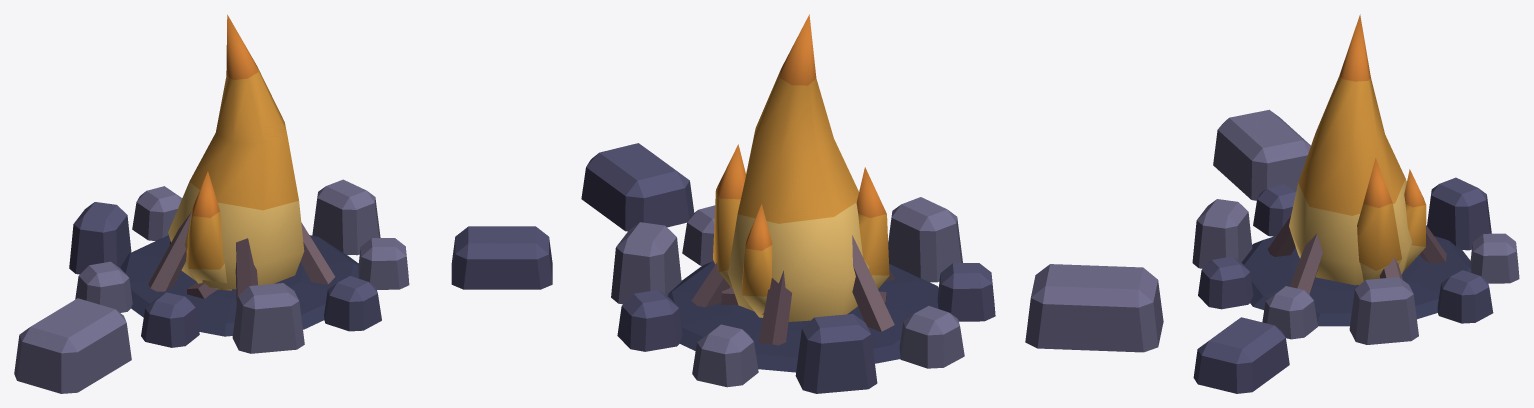
The model's file is hearth.glb.
3 renders of one model, left to right at view 1: azimuth 30°, elevation 25°; view 2: azimuth 150°, elevation 25°; view 3: azimuth 270°, elevation 25°, orthographic. The views are drawn at different scales.
Parts seen in each view (by area): view 1: hearth, glow_flame; view 2: hearth, glow_flame; view 3: hearth, glow_flame.
Boxes of the visible parts, x1,y1,x2,y2 form: hearth: (14,179,552,393); glow_flame: (168,14,304,290); hearth: (581,143,1163,393); glow_flame: (713,14,889,321); hearth: (1192,109,1519,393); glow_flame: (1289,14,1426,285).
Size of the model in its own units: 3.56 by 1.76 by 2.02.
Materials: 1 (1 with a texture image).
